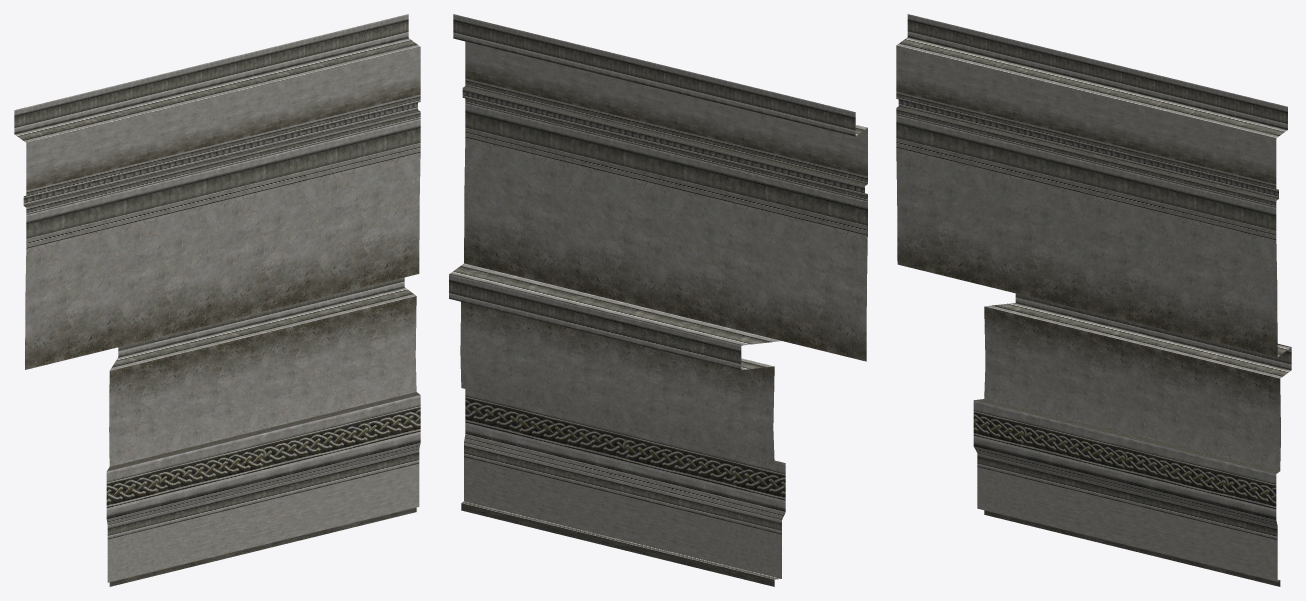
Rendered from DWARF_PALACE_GEAR_ROOM_WALL02B.fbx.
3 views of the same model, side by side, from view 1: azimuth 30°, elevation 25°; view 2: azimuth 150°, elevation 25°; view 3: azimuth 330°, elevation 25° (orthographic). The views are drawn at different scales.
Parts seen in each view (by area): view 1: DWARF_PALACE_GEAR_ROOM_WALL02B; view 2: DWARF_PALACE_GEAR_ROOM_WALL02B; view 3: DWARF_PALACE_GEAR_ROOM_WALL02B.
Part boxes in pixels (x1,y1,x2,y2): DWARF_PALACE_GEAR_ROOM_WALL02B: (14,14,420,586); DWARF_PALACE_GEAR_ROOM_WALL02B: (449,14,867,586); DWARF_PALACE_GEAR_ROOM_WALL02B: (896,14,1291,586).
Bounding box in the file's own units: 171850 × 205000 × 12001.
7 materials, 7 textured.
